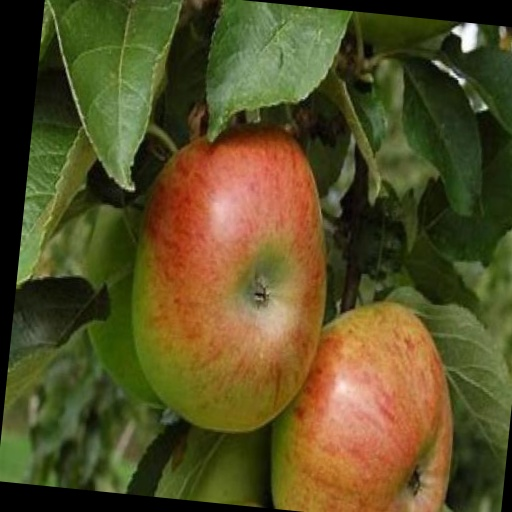fruit: (132, 127, 325, 432), (272, 303, 452, 512), (87, 206, 160, 404), (162, 426, 270, 506), (359, 12, 457, 51)
